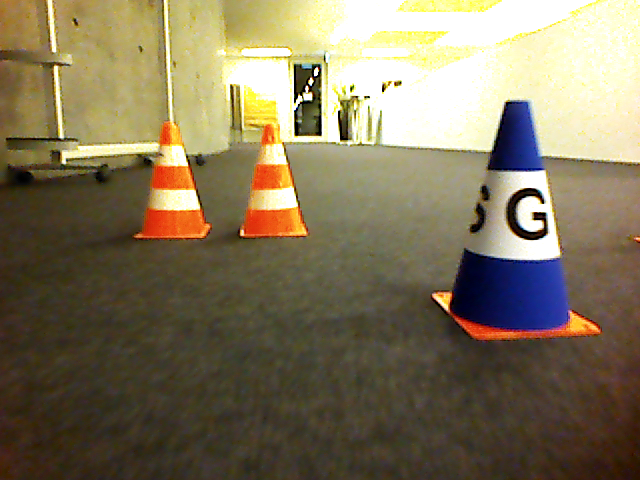bluecone: (428, 100, 604, 343)
orangeconesmall: (133, 119, 213, 240), (237, 124, 310, 239)
